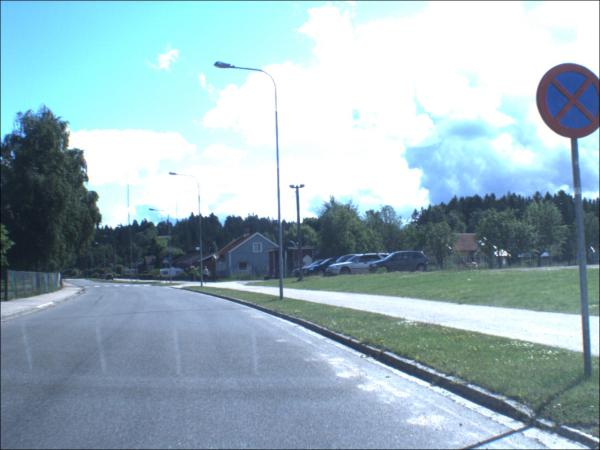NO_PARKING: (190, 261, 196, 267), (135, 263, 141, 269)
NO_STOPPING_NO_STANDING: (535, 62, 600, 140)
PEDESTRIAN_CROSSING: (164, 258, 171, 266)
